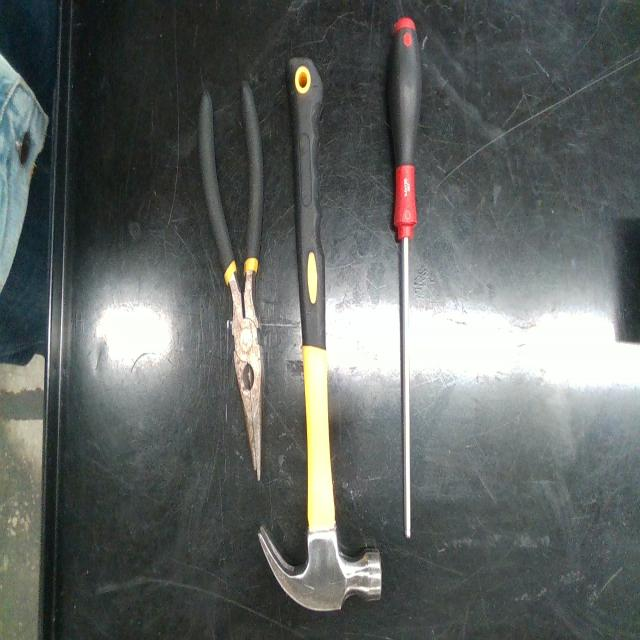Screwdriver: (389, 18, 421, 538)
